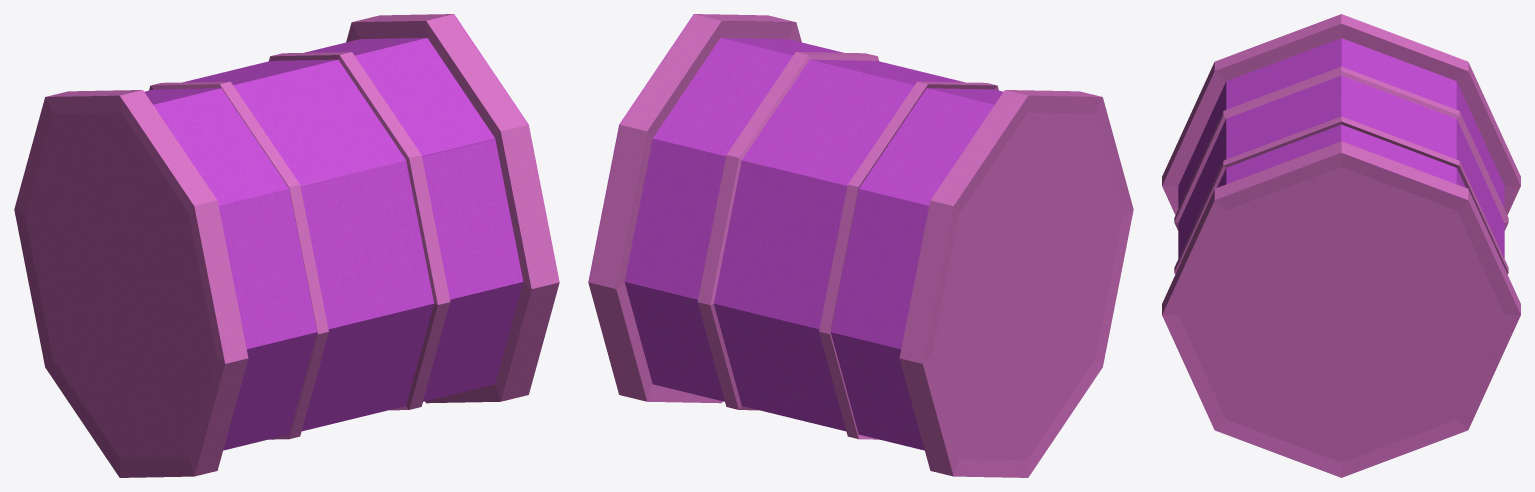
The model's file is barrel1.fbx.
3 renders of one model, left to right at view 1: azimuth 30°, elevation 25°; view 2: azimuth 150°, elevation 25°; view 3: azimuth 270°, elevation 25°, orthographic. The views are drawn at different scales.
Visible parts, largest first — view 1: Barrel; view 2: Barrel; view 3: Barrel.
Boxes of the visible parts, <box> form: Barrel: <box>14,14,559,477</box>; Barrel: <box>588,14,1133,477</box>; Barrel: <box>1162,14,1520,477</box>.
Bounding box in the file's own units: 654 × 714 × 714.
